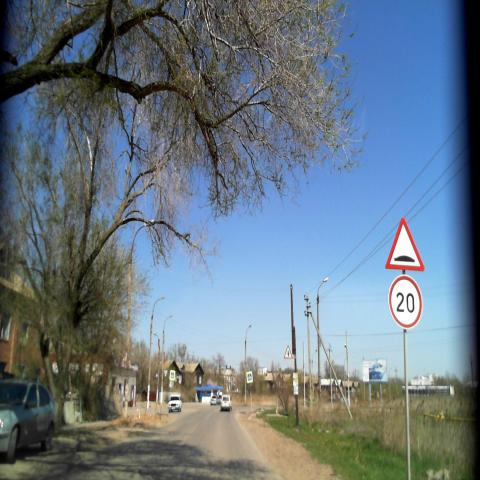2_3: (283, 344, 293, 360)
